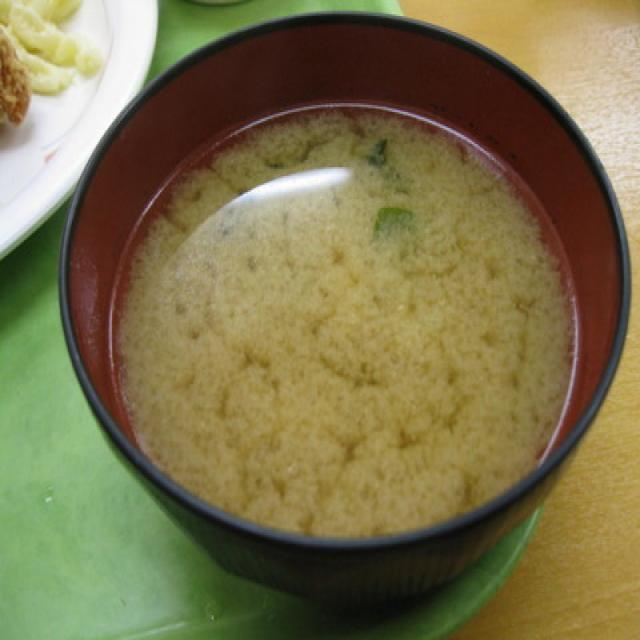汤锅炖物: (89, 71, 604, 541)
